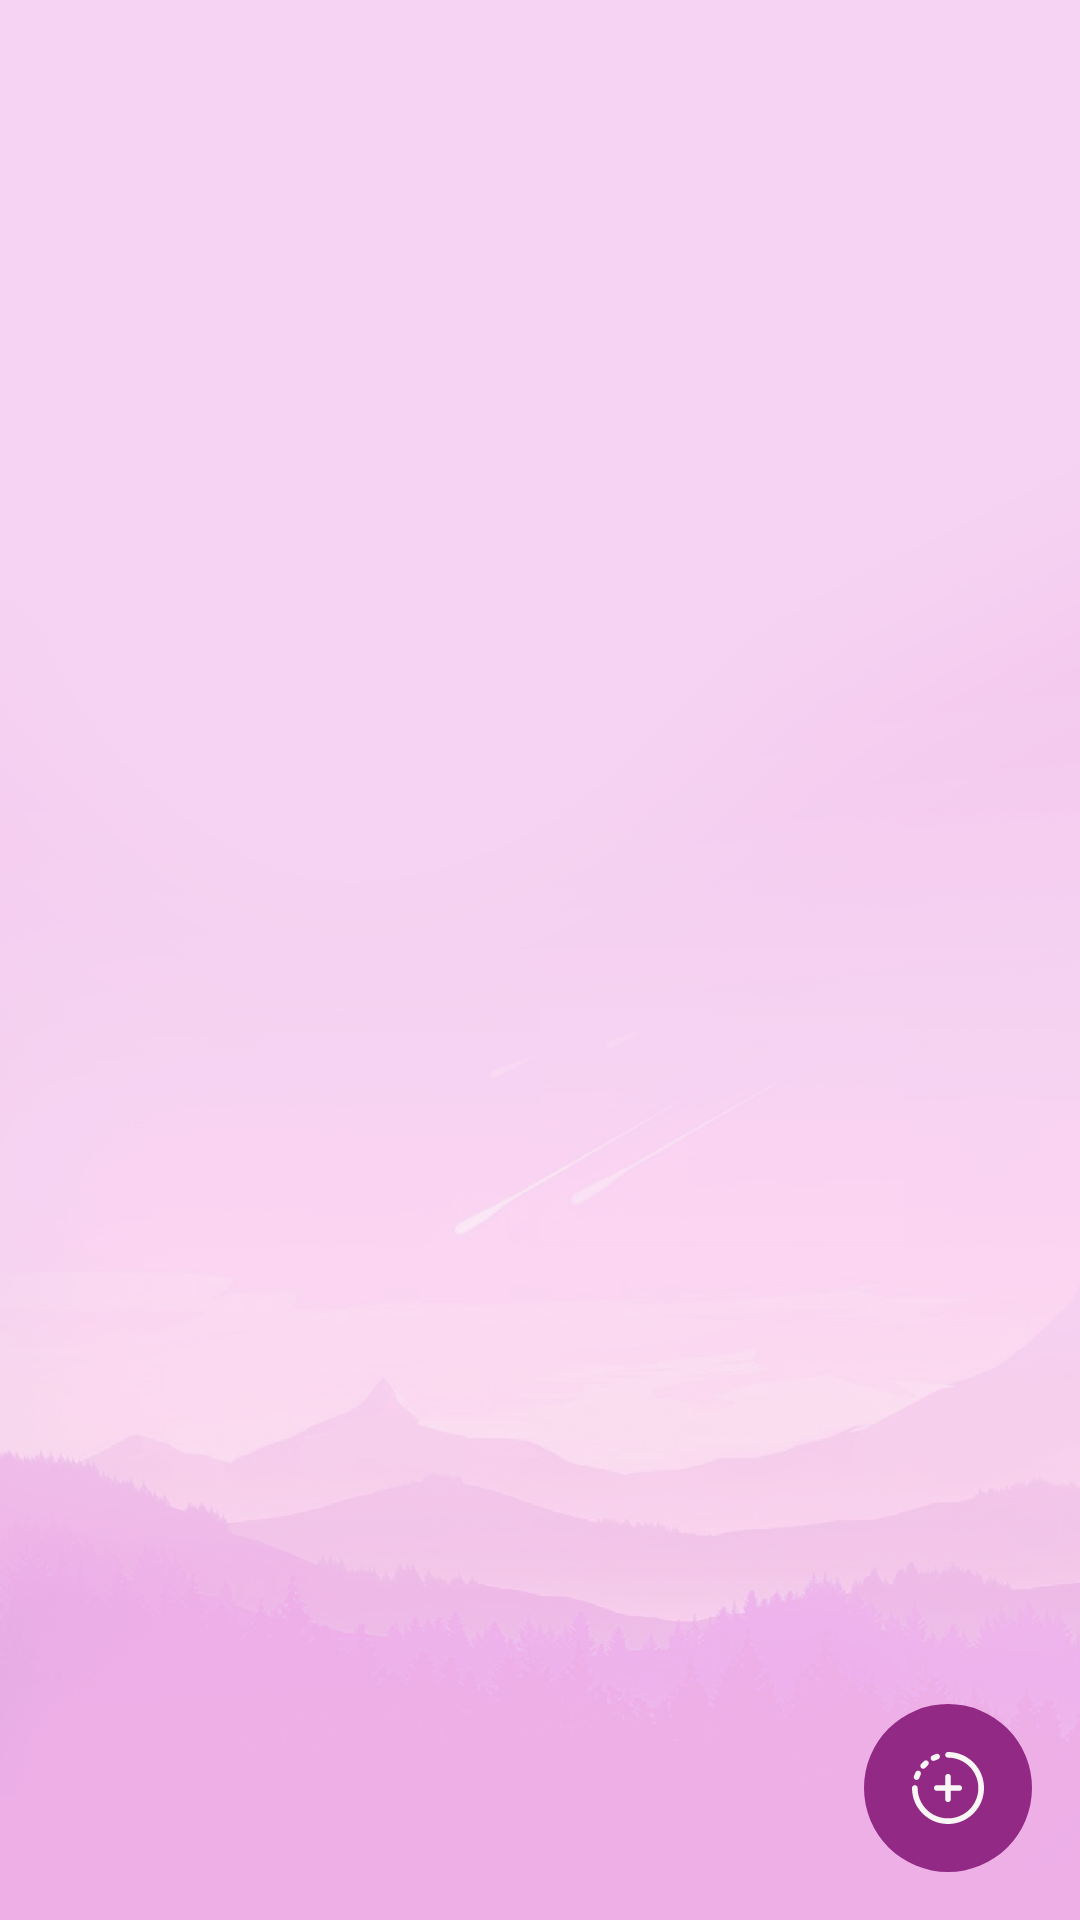

Icons on this 1080px×1920px Android screen, each with its box as (x1, y1, x2, y2):
Add button: (864, 1704, 1032, 1872)
